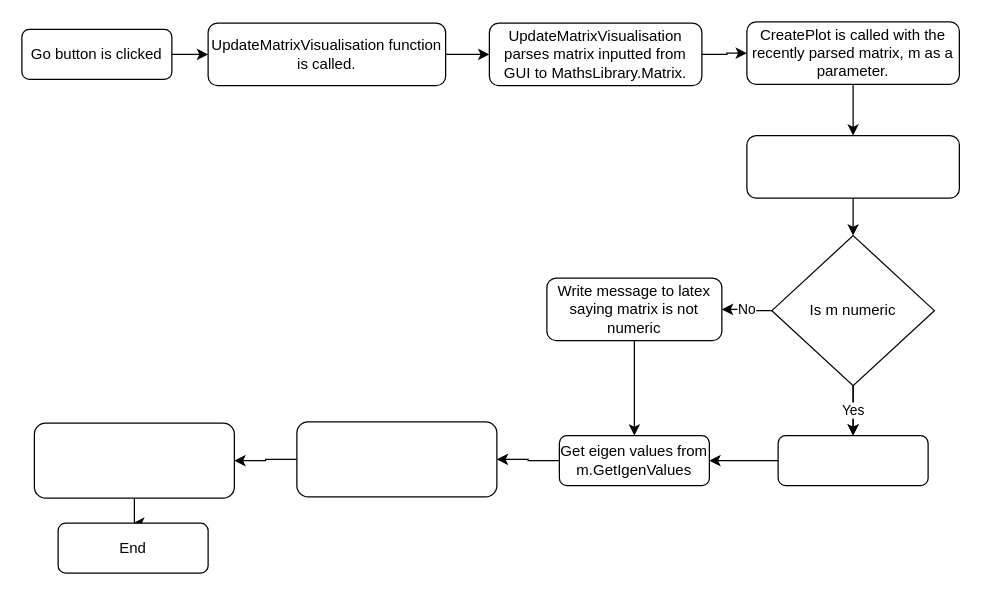
Image size: 981x595. Some labels were removed from this diagram. The shapes that lost their labels are listed below. From the top down, each one's centre as x and y in pixels, then its label:
At (852,166): "Clear vector field".
At (133,460): "Convert eigen vectors to equations of lines and print to latex display".
At (396,459): "Get eigen vectors by parsing in eigen values into m.GetEigenVectors".
At (852,460): "Plot vector field".
